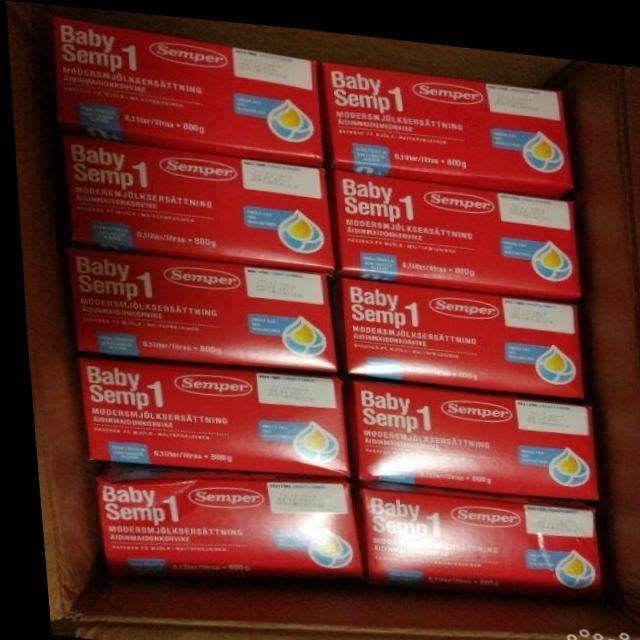box: (55, 15, 320, 159), (61, 134, 331, 266), (64, 246, 332, 365), (320, 56, 566, 185), (332, 163, 574, 293), (71, 357, 342, 471), (86, 463, 354, 570), (335, 374, 590, 486), (328, 272, 575, 387), (355, 476, 591, 577)
